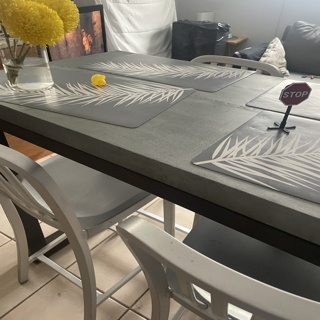sign_stop: (281, 80, 309, 106)
